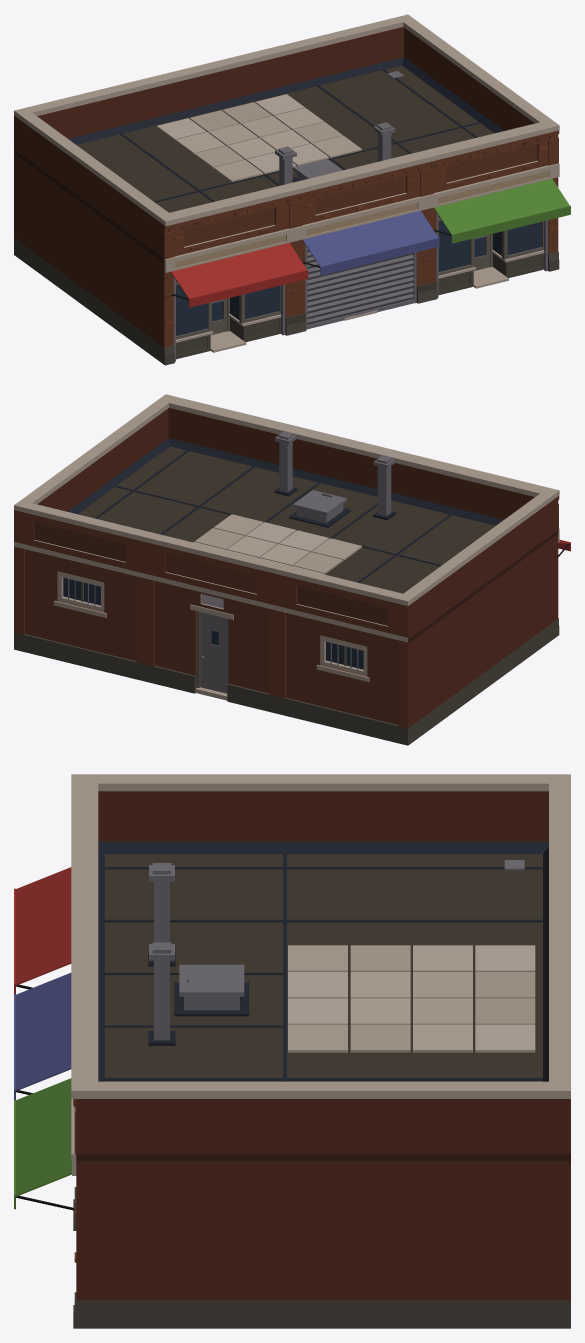
File: one-storey-shop-row-83c958.glb
3 renders of one model, top to bottom at view 1: azimuth 30°, elevation 25°; view 2: azimuth 150°, elevation 25°; view 3: azimuth 270°, elevation 25°, orthographic. The views are drawn at different scales.
Visible parts, largest first — view 1: shop-row, awnings-canvas, roof-hatch-lid; view 2: shop-row, roof-hatch-lid; view 3: shop-row, awnings-canvas, roof-hatch-lid.
Boxes of the visible parts, x1,y1,x2,y2 form: shop-row: [14, 14, 559, 365]; awnings-canvas: [171, 179, 570, 307]; roof-hatch-lid: [293, 159, 342, 179]; shop-row: [14, 394, 559, 745]; roof-hatch-lid: [293, 490, 346, 515]; shop-row: [71, 774, 570, 1328]; awnings-canvas: [14, 867, 74, 1210]; roof-hatch-lid: [179, 964, 244, 996].
Bounding box in the file's own units: 12 × 4.66 × 8.92.
